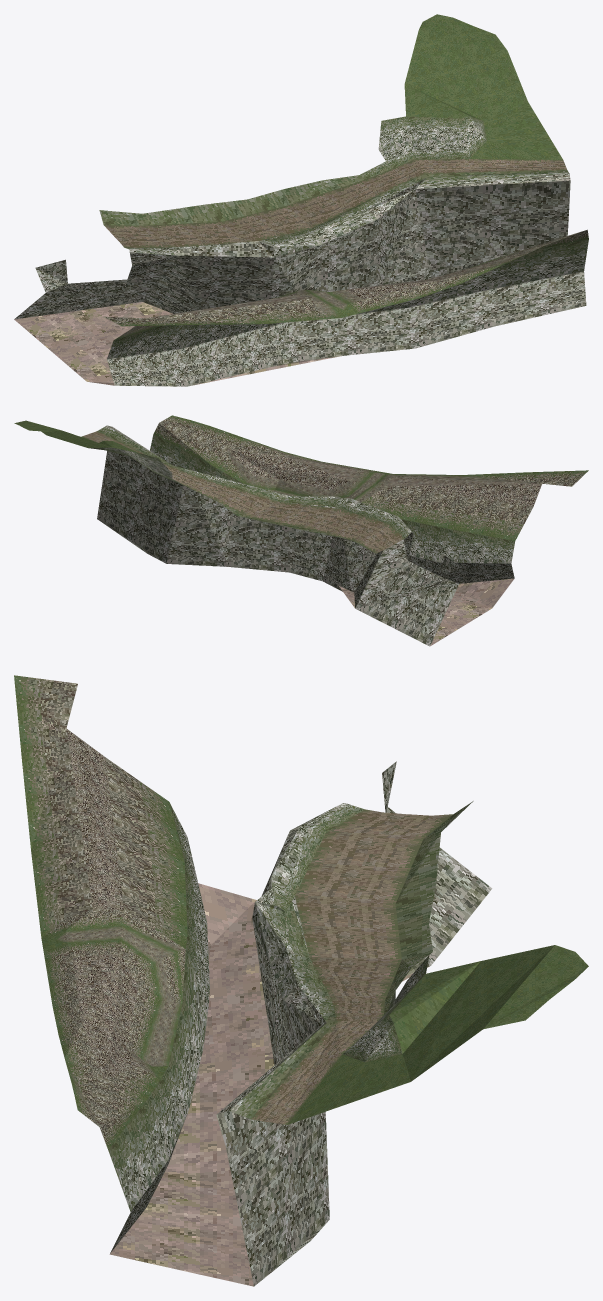
File: lodcunteground31.obj
3 renders of one model, top to bottom at view 1: azimuth 30°, elevation 25°; view 2: azimuth 150°, elevation 25°; view 3: azimuth 270°, elevation 25°, orthographic. The views are drawn at different scales.
Visible parts, largest first — view 1: LODcuntEground31; view 2: LODcuntEground31; view 3: LODcuntEground31.
Part boxes in pixels (box(x1,y1,x2,y2)): LODcuntEground31: box(14, 14, 588, 386); LODcuntEground31: box(14, 415, 588, 646); LODcuntEground31: box(14, 675, 588, 1286).
Bounding box in the file's own units: 246 × 88 × 144.
Materials: 7 (7 with a texture image).
